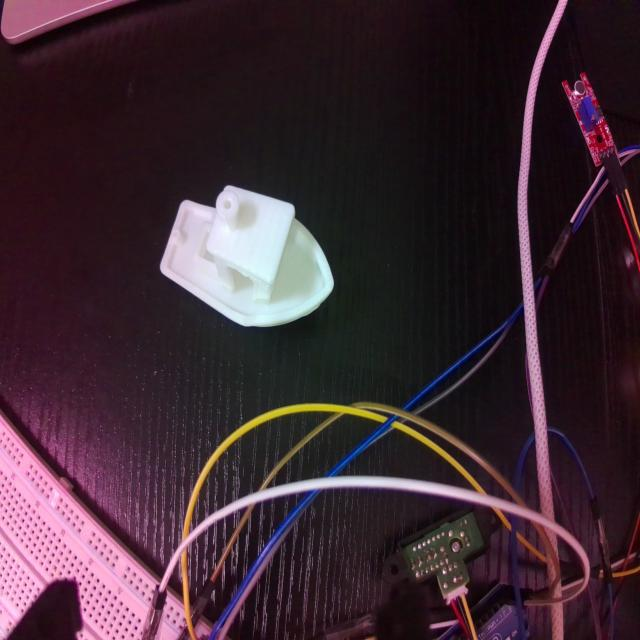ship: (158, 181, 335, 330)
